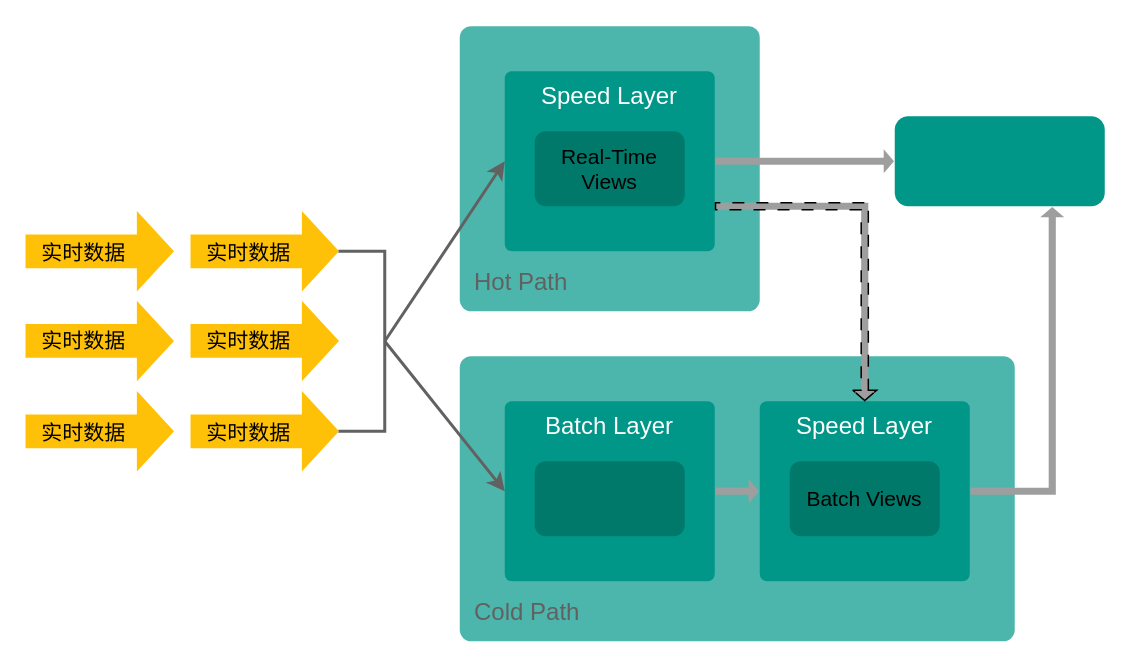
Image size: 1131x666. Some labels were removed from this diagram. The centre of each missing label's shape, as x and y in pixels:
Analytics Client: (x=999, y=161)
Master Data: (x=609, y=498)
